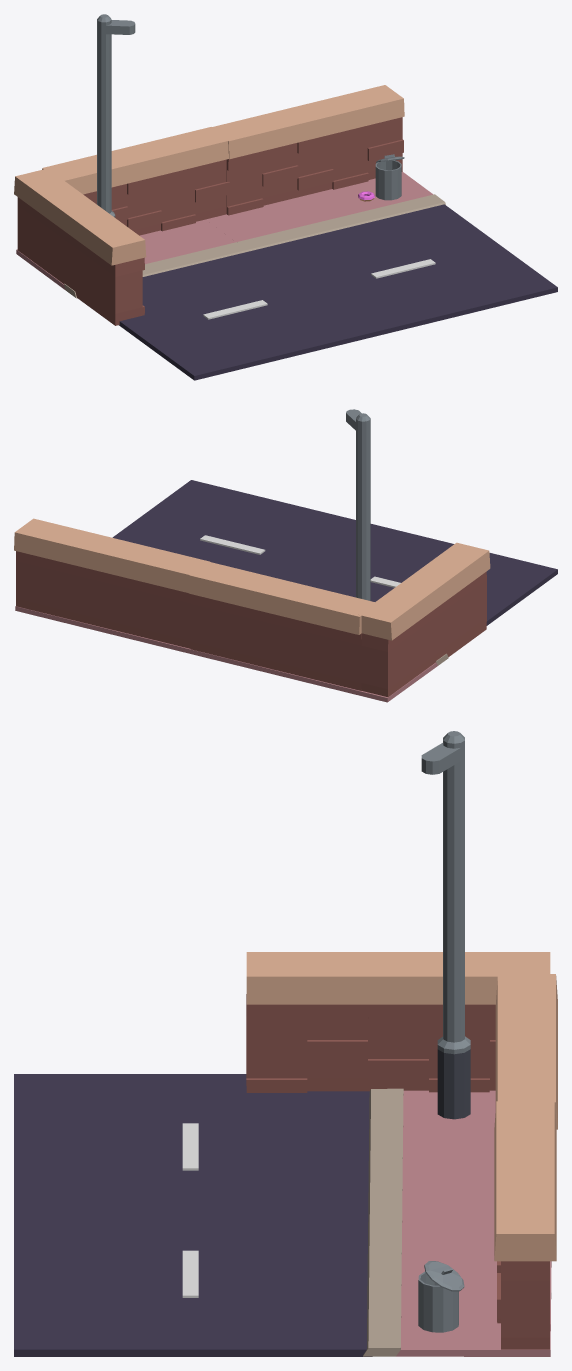
The model's file is urbanenv.glb.
3 renders of one model, top to bottom at view 1: azimuth 30°, elevation 25°; view 2: azimuth 150°, elevation 25°; view 3: azimuth 270°, elevation 25°, orthographic. The views are drawn at different scales.
Visible parts, largest first — view 1: carretera, wall.001, wall.003, wall.002, acera, acera.001, farola, Cylinder.003; view 2: carretera, wall.001, wall.002, wall.003, farola, acera.001, acera; view 3: carretera, wall.003, acera, wall.001, acera.001, farola, wall.002, Cylinder.003.
Part boxes in pixels (left/top/right/bottom): carretera: left=119, top=204, right=557, bottom=380; wall.001: left=212, top=85, right=404, bottom=215; wall.003: left=14, top=168, right=146, bottom=325; wall.002: left=42, top=127, right=229, bottom=235; acera: left=206, top=172, right=445, bottom=251; acera.001: left=16, top=219, right=248, bottom=298; farola: left=97, top=14, right=135, bottom=217; Cylinder.003: left=375, top=154, right=404, bottom=200; carretera: left=112, top=480, right=557, bottom=625; wall.001: left=14, top=518, right=209, bottom=648; wall.002: left=188, top=561, right=374, bottom=690; wall.003: left=358, top=542, right=490, bottom=696; farola: left=346, top=409, right=370, bottom=600; acera.001: left=189, top=649, right=448, bottom=702; acera: left=15, top=606, right=213, bottom=658; carretera: left=14, top=1074, right=372, bottom=1356; wall.003: left=246, top=952, right=550, bottom=1092; acera: left=363, top=1198, right=551, bottom=1356; wall.001: left=494, top=1101, right=556, bottom=1349; acera.001: left=368, top=1088, right=495, bottom=1200; farola: left=421, top=731, right=470, bottom=1119; wall.002: left=495, top=974, right=557, bottom=1129; Cylinder.003: left=418, top=1261, right=464, bottom=1332.
Bounding box in the file's own units: 14.08 × 8.96 × 11.44.
